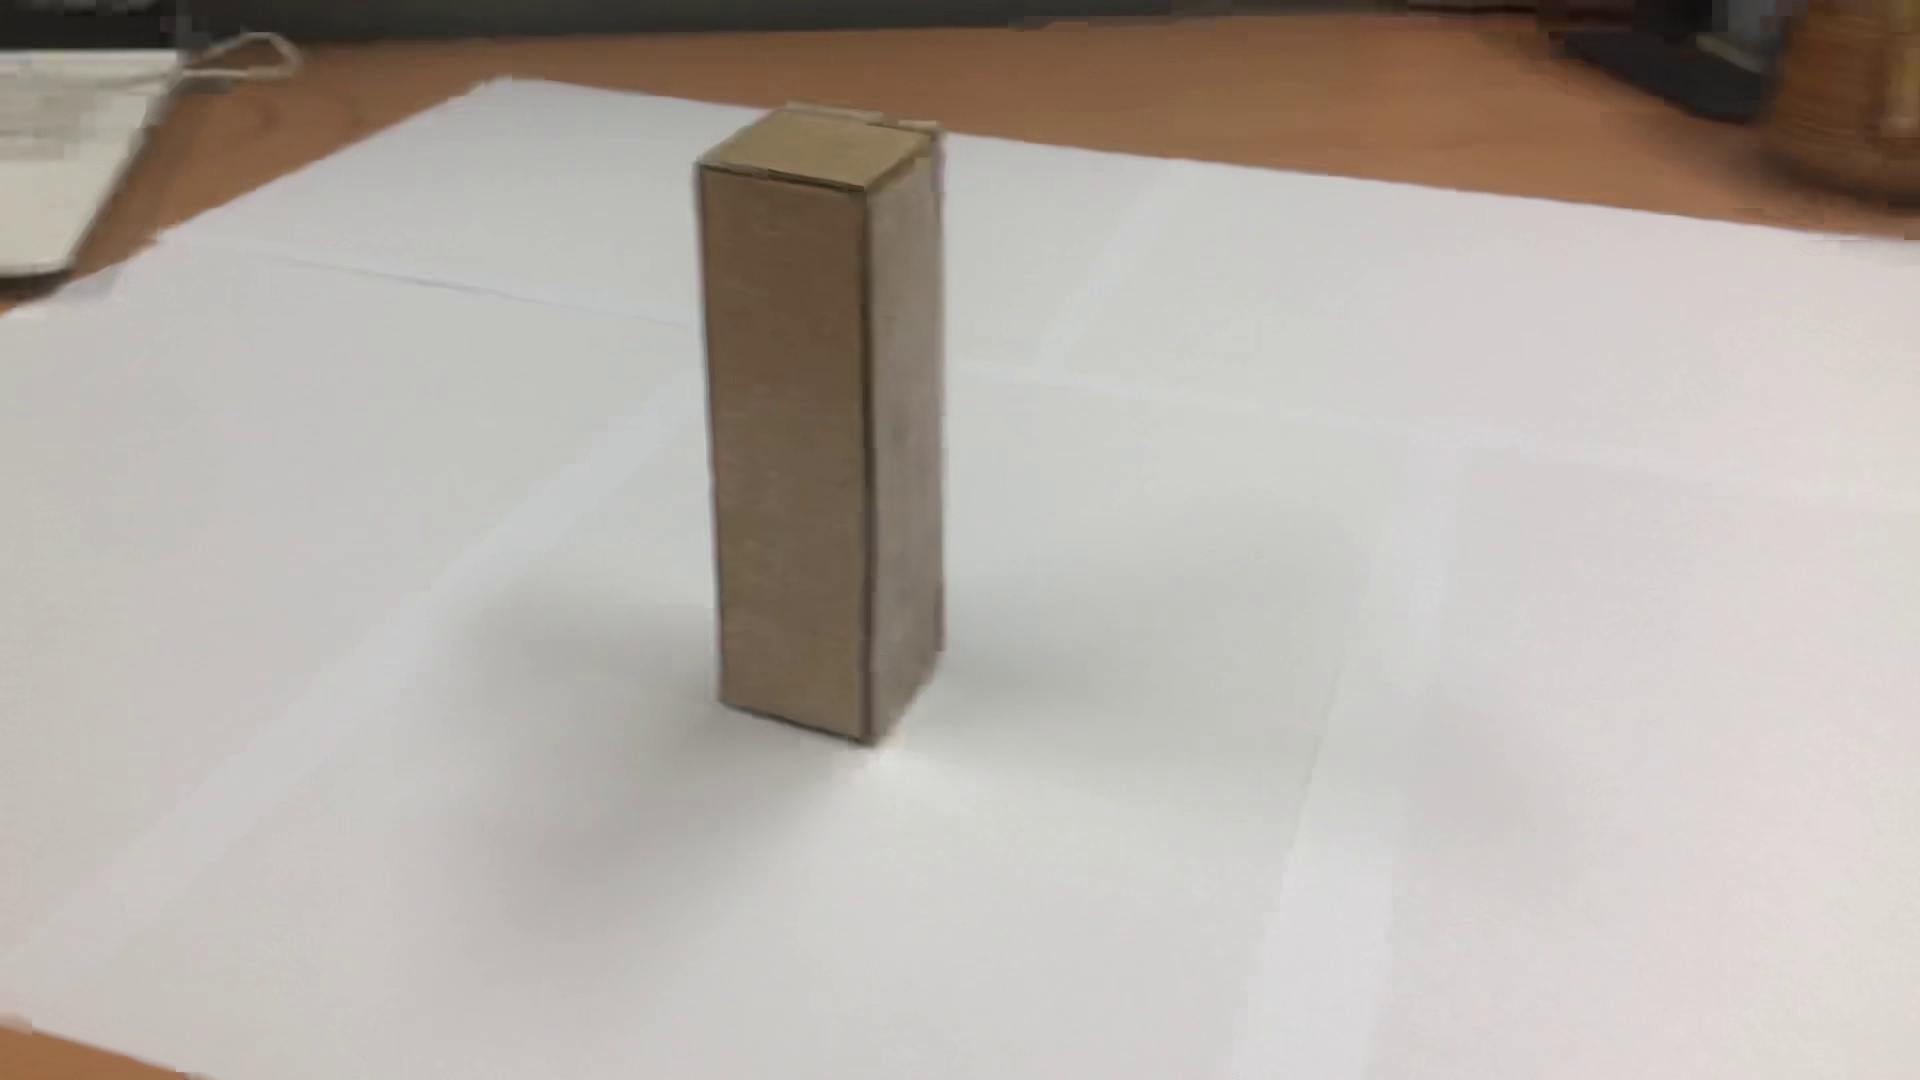box: (659, 73, 988, 773)
